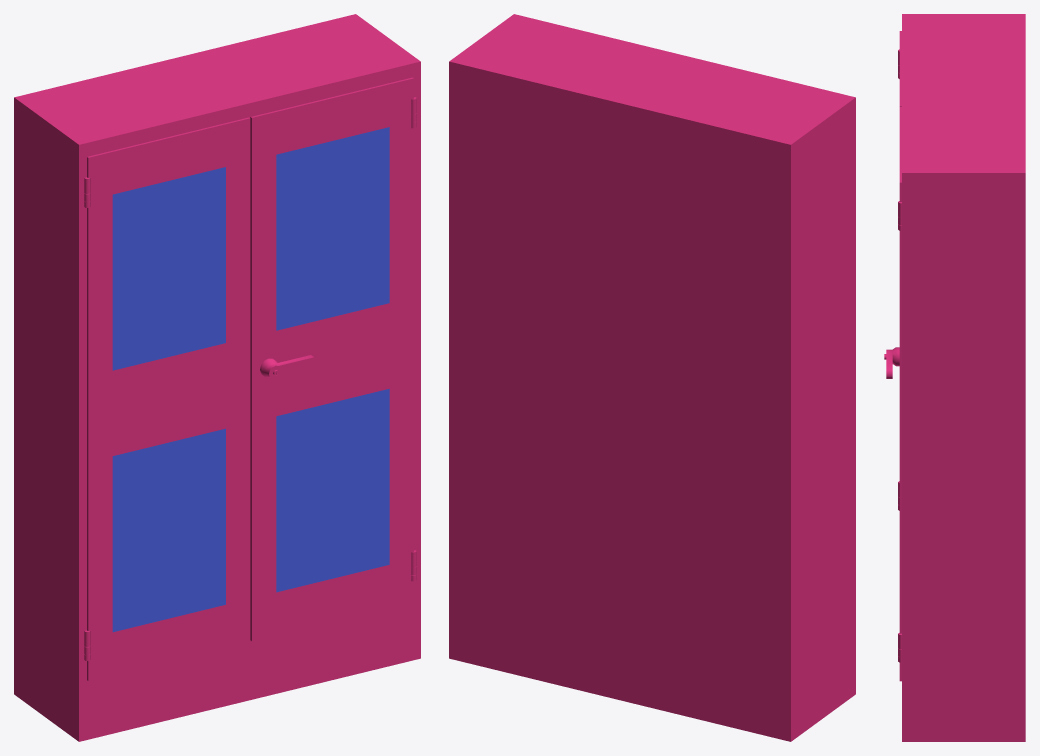
Rendered from Gun LockerClosed.fbx.
3 views of the same model, side by side, from view 1: azimuth 30°, elevation 25°; view 2: azimuth 150°, elevation 25°; view 3: azimuth 270°, elevation 25° (orthographic). The views are drawn at different scales.
Visible parts, largest first — view 1: Cube.005; view 2: Cube.005; view 3: Cube.005.
Part boxes in pixels (box(x1,y1,x2,y2)): Cube.005: box(14, 14, 420, 741); Cube.005: box(449, 14, 855, 741); Cube.005: box(884, 14, 1025, 741).
Bounding box in the file's own units: 1.28 × 2.13 × 0.481.
